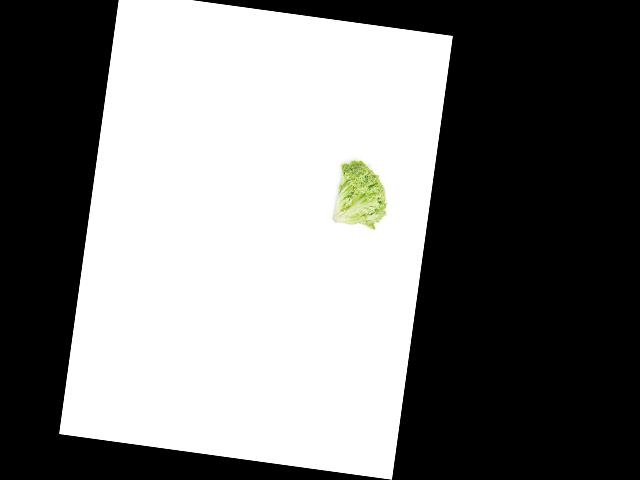lettuce: (325, 153, 396, 234)
